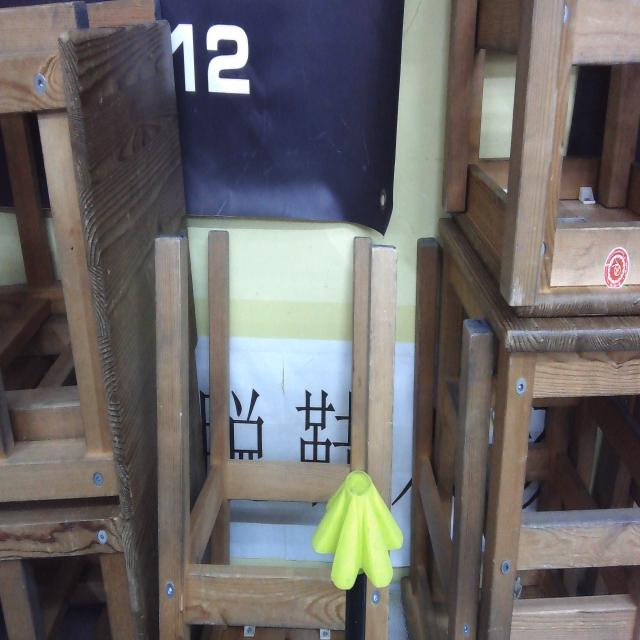Yellow-Stake-Head: (311, 469, 404, 590)
